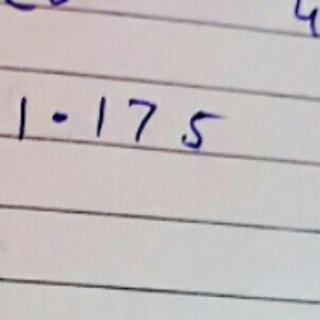.: (48, 105, 73, 127)
1: (14, 93, 33, 145), (94, 93, 108, 140)
5: (179, 110, 222, 150)
7: (128, 97, 158, 146)
